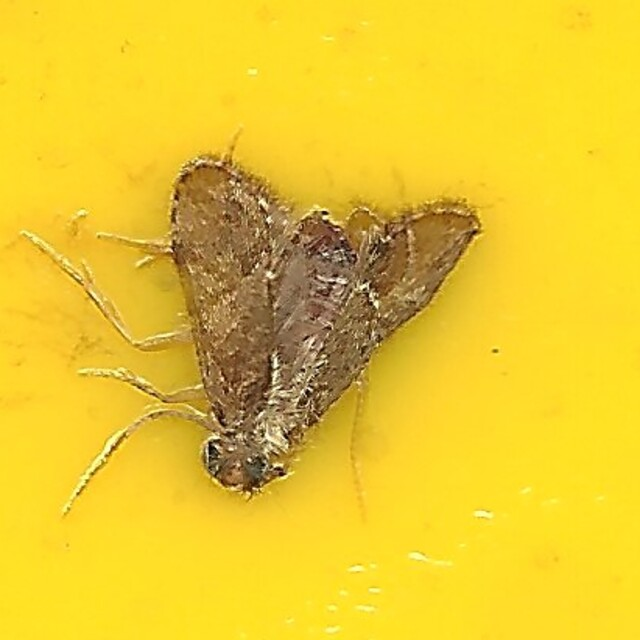Trichoptera: (156, 143, 484, 497)
